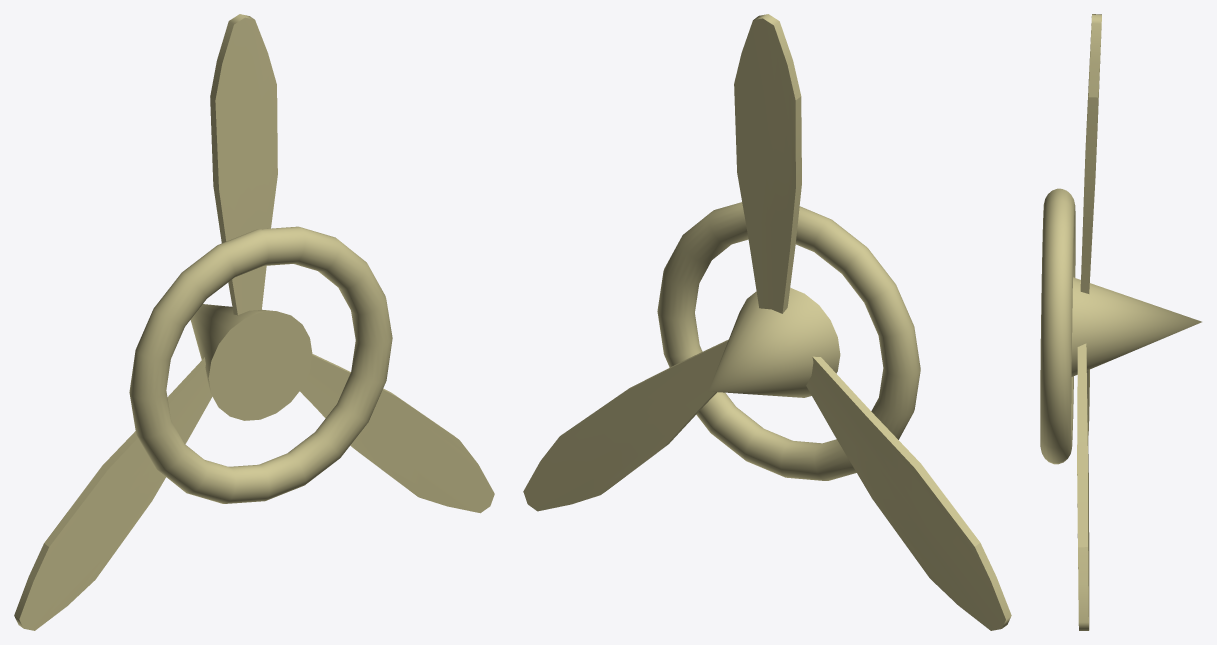
The model's file is SM_Propellar.fbx.
The picture shows the model from 3 angles, left to right: view 1: azimuth 30°, elevation 25°; view 2: azimuth 150°, elevation 25°; view 3: azimuth 270°, elevation 25°; orthographic projection. The views are drawn at different scales.
Visible parts, largest first — view 1: SM_Propeller; view 2: SM_Propeller; view 3: SM_Propeller.
Boxes of the visible parts, x1=… form: SM_Propeller: x1=14, y1=14, x2=494, y2=630; SM_Propeller: x1=523, y1=14, x2=1011, y2=630; SM_Propeller: x1=1040, y1=14, x2=1201, y2=630.
Size of the model in its own units: 260 by 290 by 82.22.
